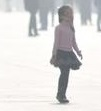person: (49, 4, 84, 105), (23, 1, 41, 36), (77, 1, 94, 26), (37, 1, 51, 31)
